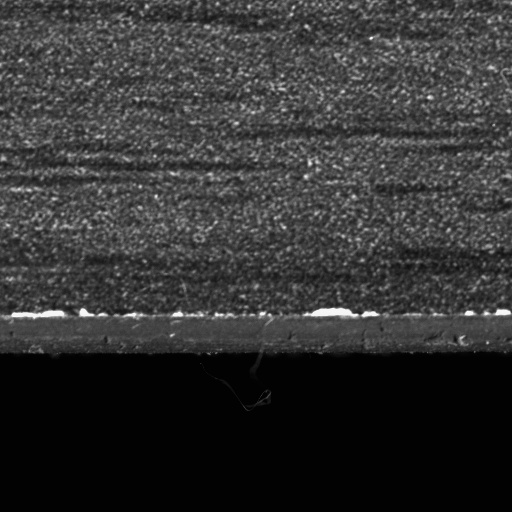huashang: (300, 306, 380, 318), (12, 309, 68, 319)
